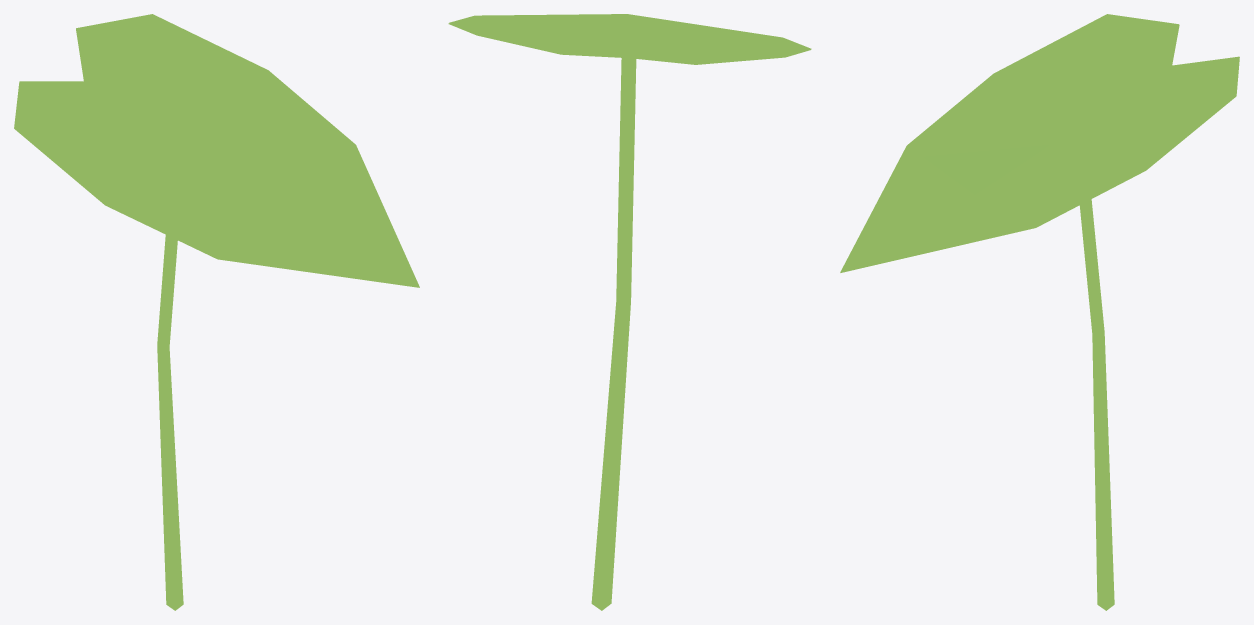
Rendered from Plant_d_TwoS_03.fbx.
The picture shows the model from 3 angles, left to right: view 1: azimuth 30°, elevation 25°; view 2: azimuth 150°, elevation 25°; view 3: azimuth 270°, elevation 25°; orthographic projection. The views are drawn at different scales.
Parts seen in each view (by area): view 1: Plant_d_TwoS_03; view 2: Plant_d_TwoS_03; view 3: Plant_d_TwoS_03.
Part boxes in pixels (<box>): Plant_d_TwoS_03: <box>14,14,419,610</box>; Plant_d_TwoS_03: <box>448,14,811,610</box>; Plant_d_TwoS_03: <box>840,14,1239,610</box>.
Bounding box in the file's own units: 0.4733 × 0.7939 × 0.538.
